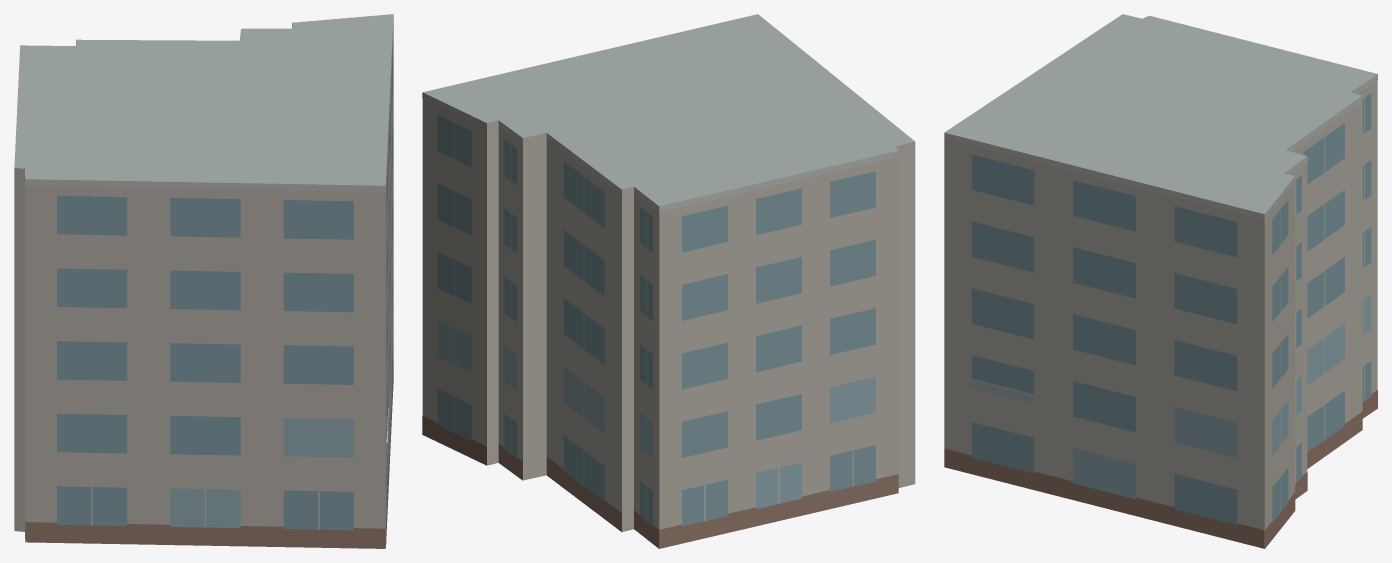
The model's file is survey-upis-32662117.glb.
3 views of the same model, side by side, from view 1: azimuth 30°, elevation 25°; view 2: azimuth 150°, elevation 25°; view 3: azimuth 270°, elevation 25° (orthographic). The views are drawn at different scales.
Parts seen in each view (by area): view 1: survey-upis-32662117.tmp; view 2: survey-upis-32662117.tmp; view 3: survey-upis-32662117.tmp.
Part boxes in pixels (box(x1,y1,x2,y2)): survey-upis-32662117.tmp: box(14, 14, 393, 548); survey-upis-32662117.tmp: box(422, 14, 915, 548); survey-upis-32662117.tmp: box(944, 14, 1377, 548).
Bounding box in the file's own units: 17.47 × 13.6 × 15.98.
